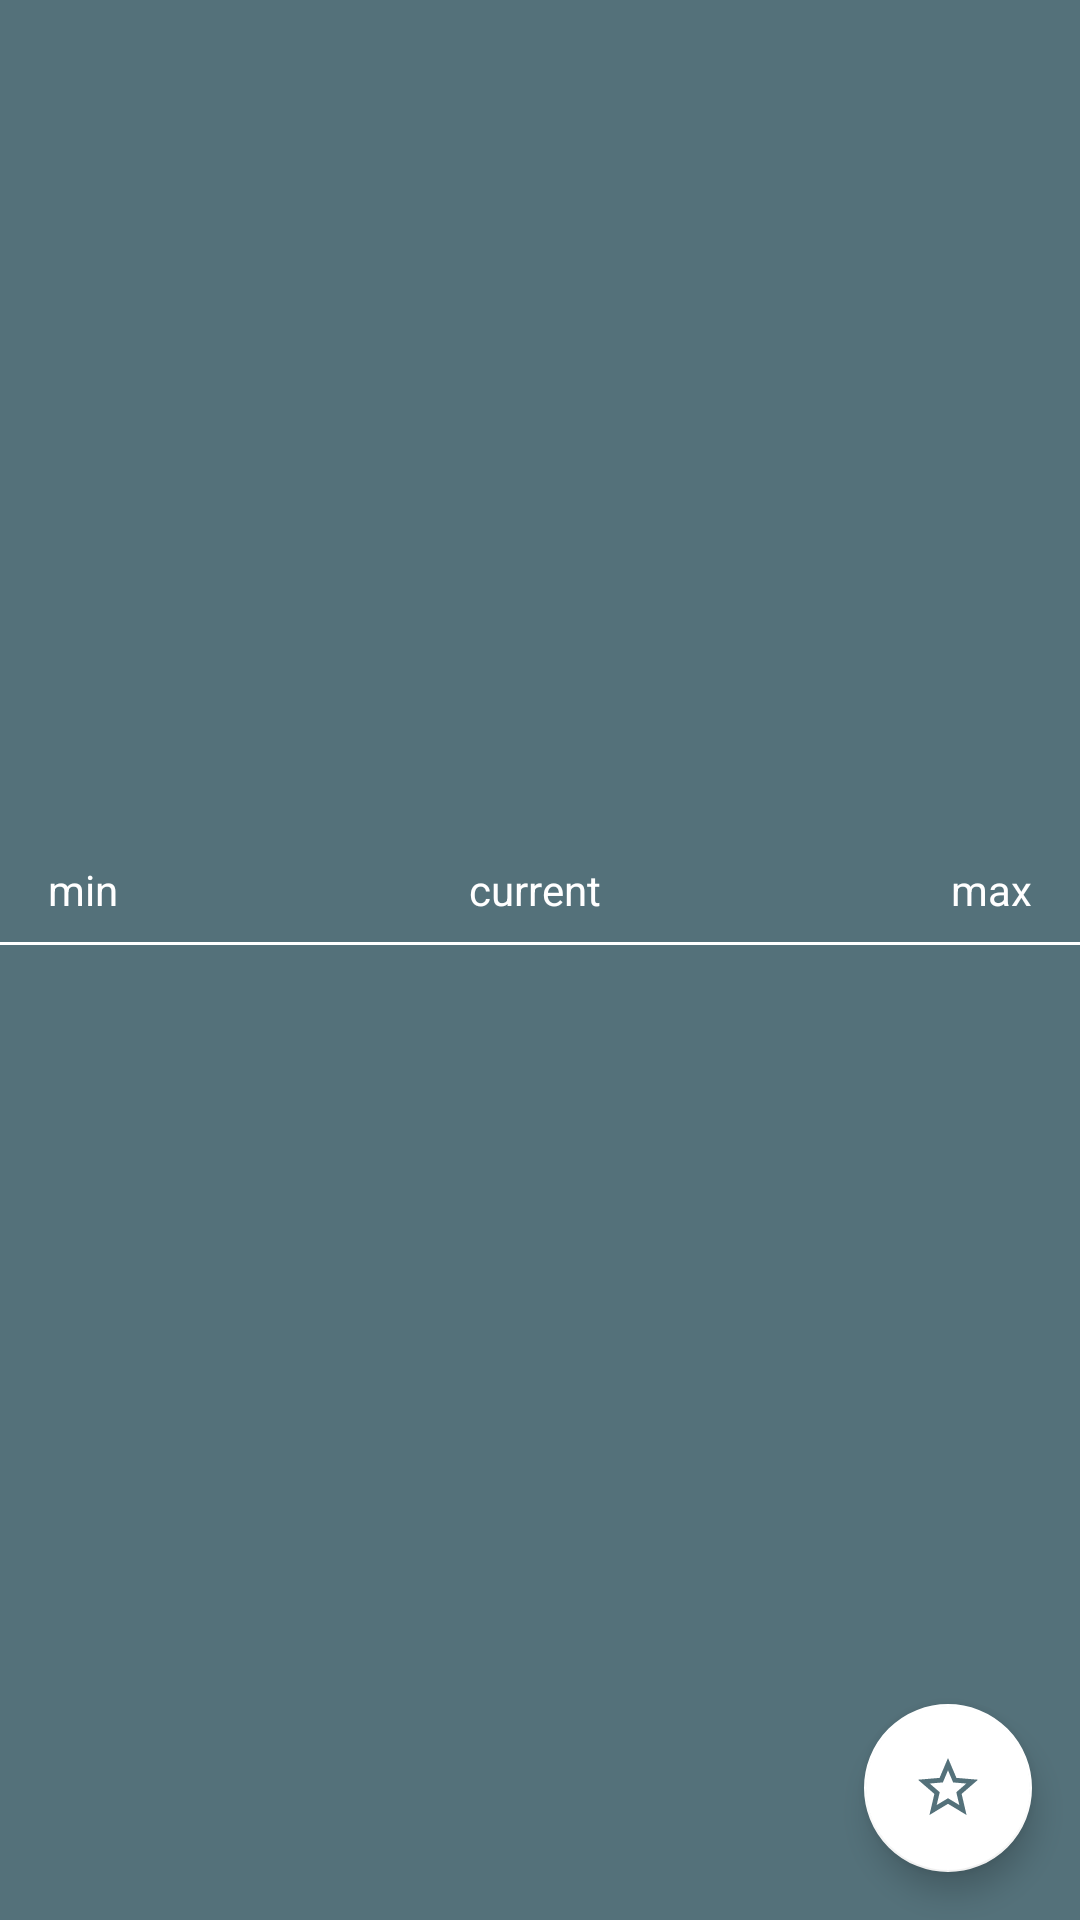

Icons on this 1080px×1920px Android screen, each with the point to tap as (x=x, y=y):
favourites: (x=948, y=1788)
